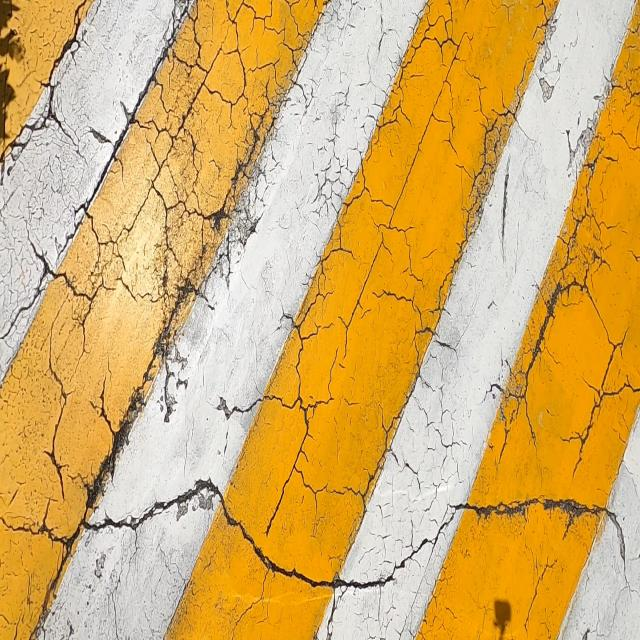Retak-Buaya: (222, 3, 513, 537), (3, 3, 333, 414), (488, 7, 640, 478)
Retak-Melintang: (0, 473, 630, 592)
Retak-Memanjang: (0, 0, 82, 173)
